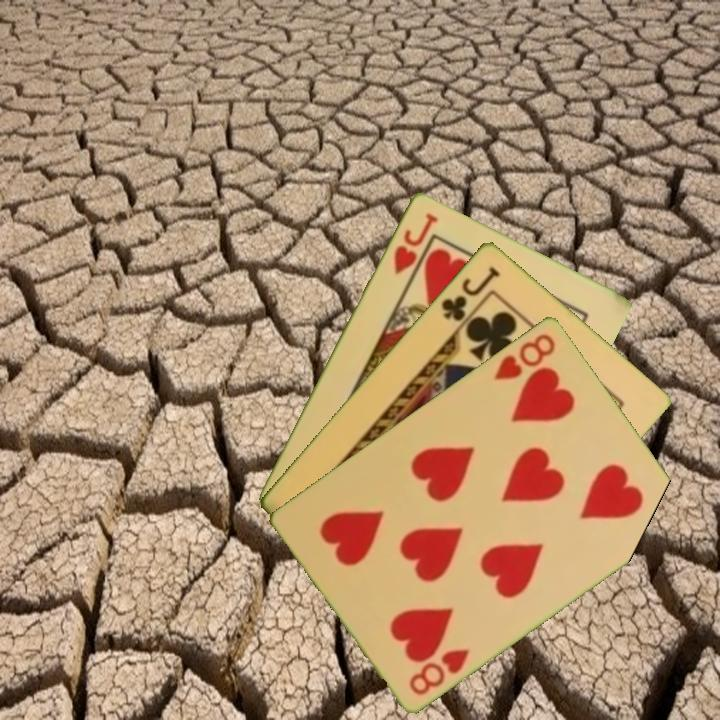8h: (490, 329, 558, 383), (405, 644, 473, 698)
Jc: (437, 262, 503, 324)
Jh: (389, 208, 441, 278)
